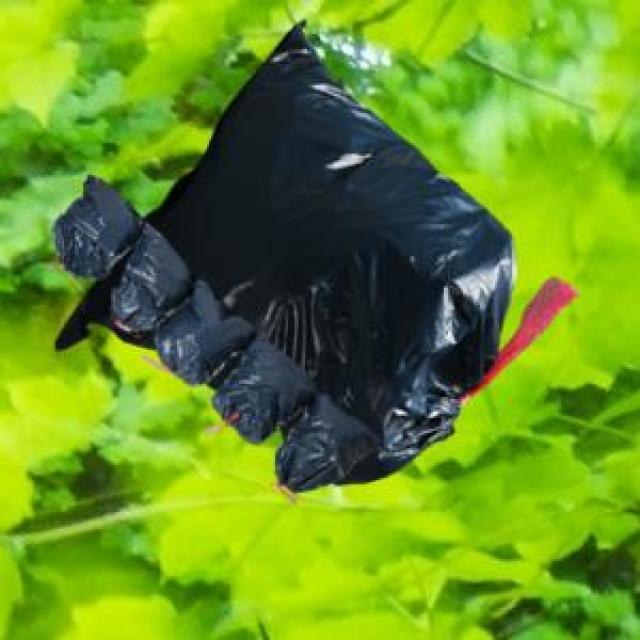Vinyl: (66, 23, 512, 462), (222, 336, 314, 444), (280, 392, 382, 485), (111, 222, 193, 334), (159, 284, 254, 380), (57, 176, 136, 279)
